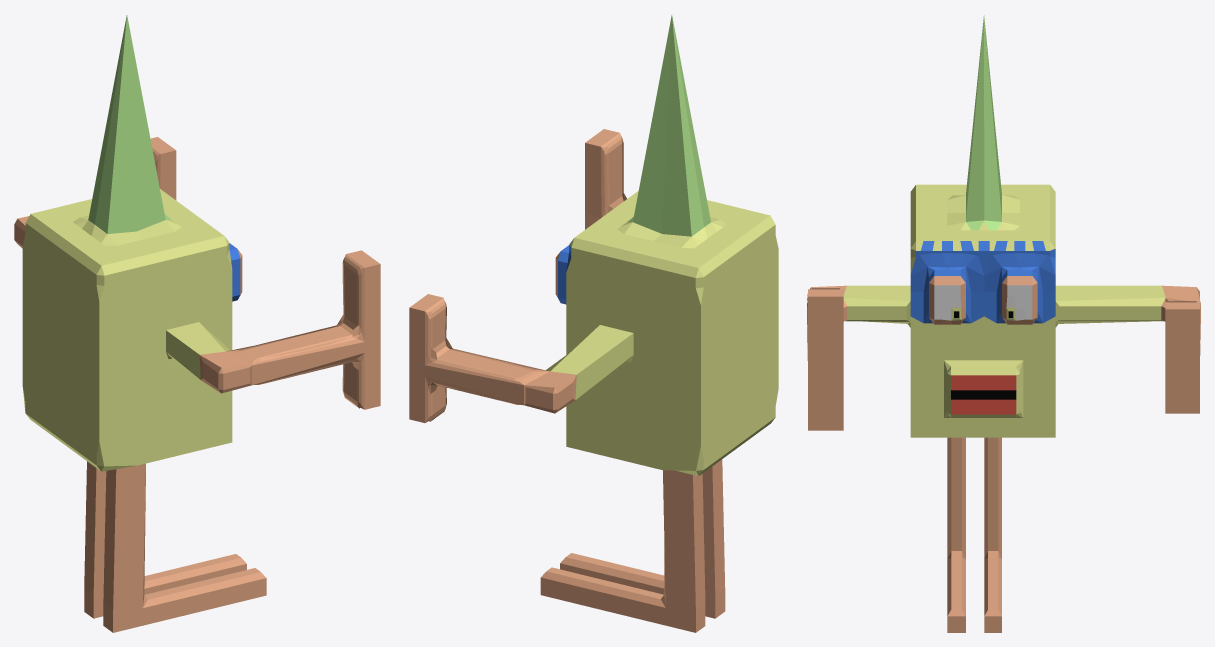
The model's file is bot1.glb.
3 views of the same model, side by side, from view 1: azimuth 30°, elevation 25°; view 2: azimuth 150°, elevation 25°; view 3: azimuth 270°, elevation 25° (orthographic). The views are drawn at different scales.
Visible parts, largest first — view 1: Cube; view 2: Cube; view 3: Cube.
Part boxes in pixels (x1=…): Cube: x1=14, y1=15, x2=380, y2=632; Cube: x1=409, y1=15, x2=778, y2=632; Cube: x1=807, y1=15, x2=1200, y2=632.
Size of the model in its own units: 1.89 by 4.75 by 3.01.
